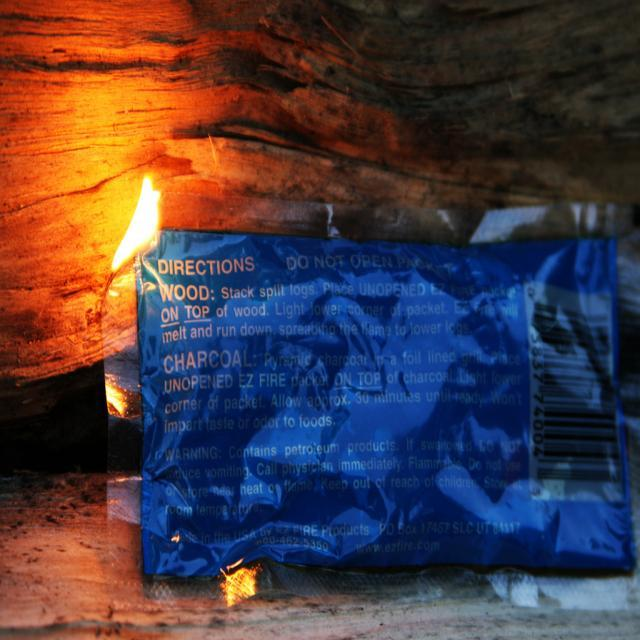Fire: (116, 180, 166, 268)
